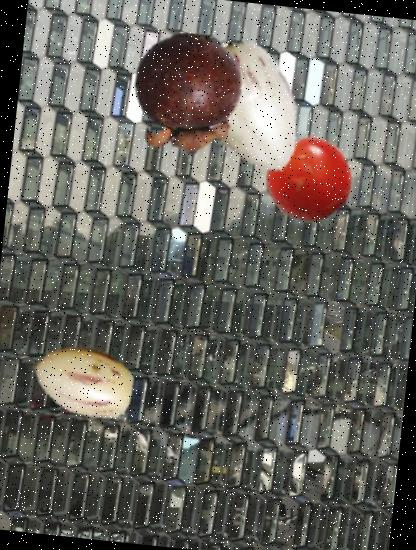Mangostan: (120, 27, 253, 160)
Pepino: (174, 34, 328, 186), (30, 324, 142, 437)
Tomato: (264, 135, 358, 228)
